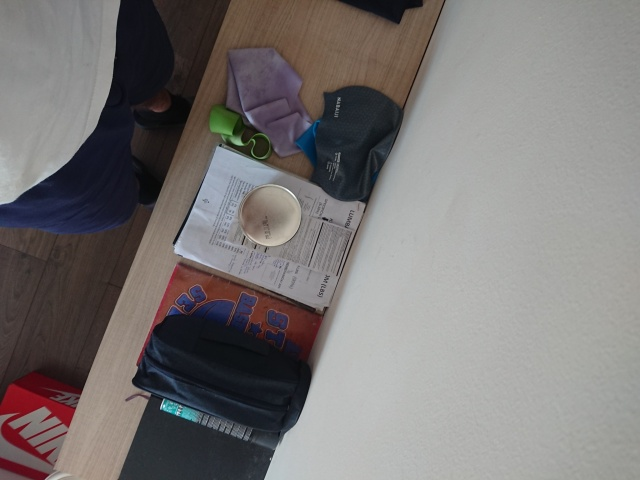Nescafe Classic 225g: (235, 181, 305, 250)
